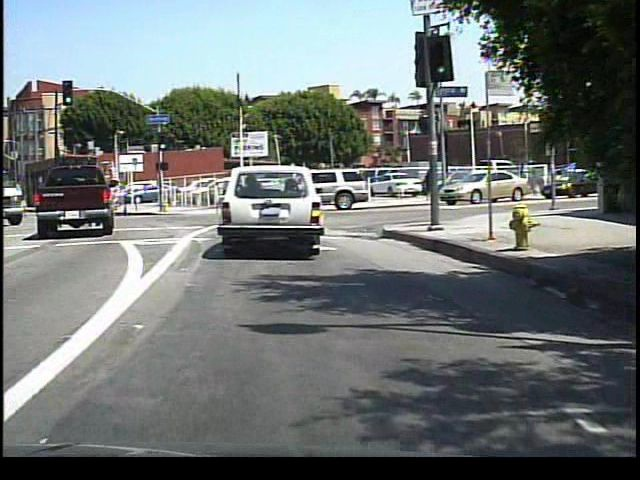person: (419, 162, 438, 204)
